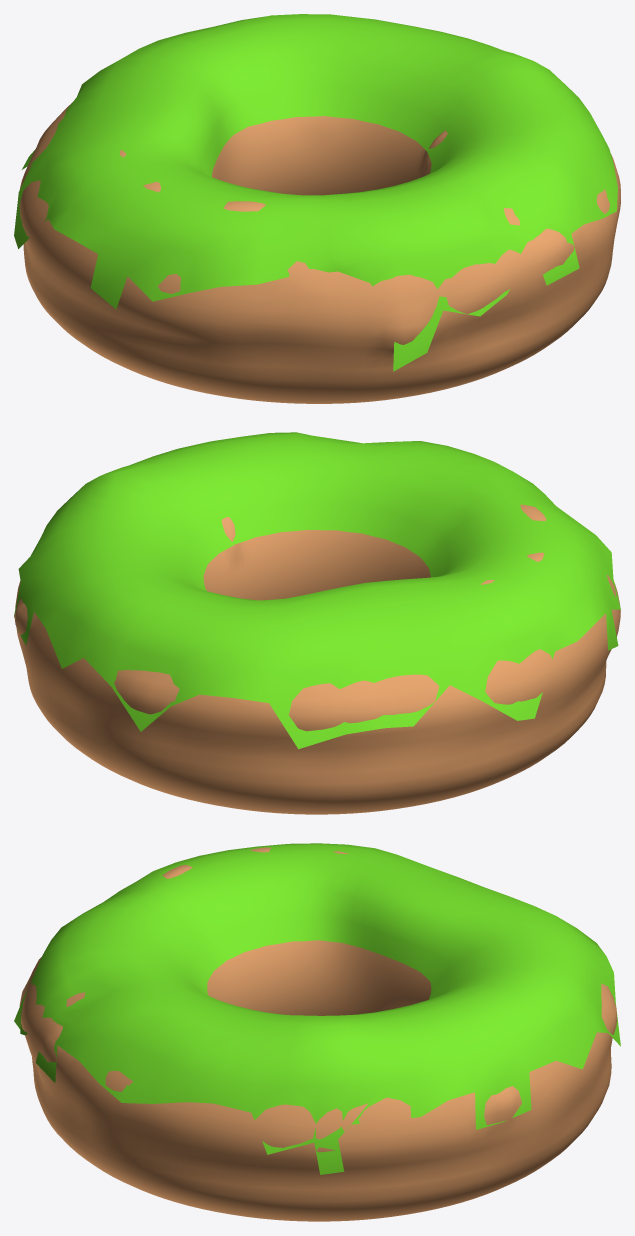
File: donut.glb
3 renders of one model, top to bottom at view 1: azimuth 30°, elevation 25°; view 2: azimuth 150°, elevation 25°; view 3: azimuth 270°, elevation 25°, orthographic. The views are drawn at different scales.
Parts seen in each view (by area): view 1: Icing, Donut; view 2: Icing, Donut; view 3: Icing, Donut.
Part boxes in pixels (x1,y1,x2,y2): Icing: (14,14,617,371); Donut: (19,102,620,403); Icing: (14,432,620,749); Donut: (14,504,620,814); Icing: (14,843,620,1174); Donut: (19,847,617,1221).
Size of what is drawn, in the model's own units: 0.1462 by 0.0529 by 0.1483.
